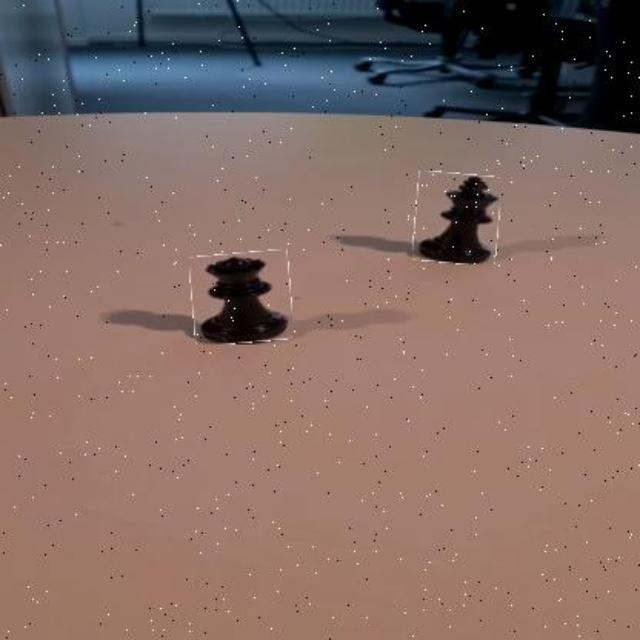black-king: (414, 172, 500, 264)
black-queen: (192, 251, 292, 344)
